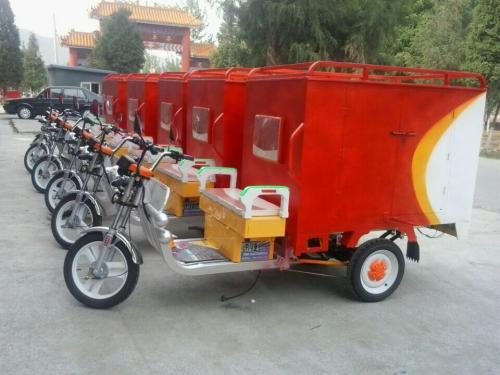tricycle: (77, 60, 482, 307)
